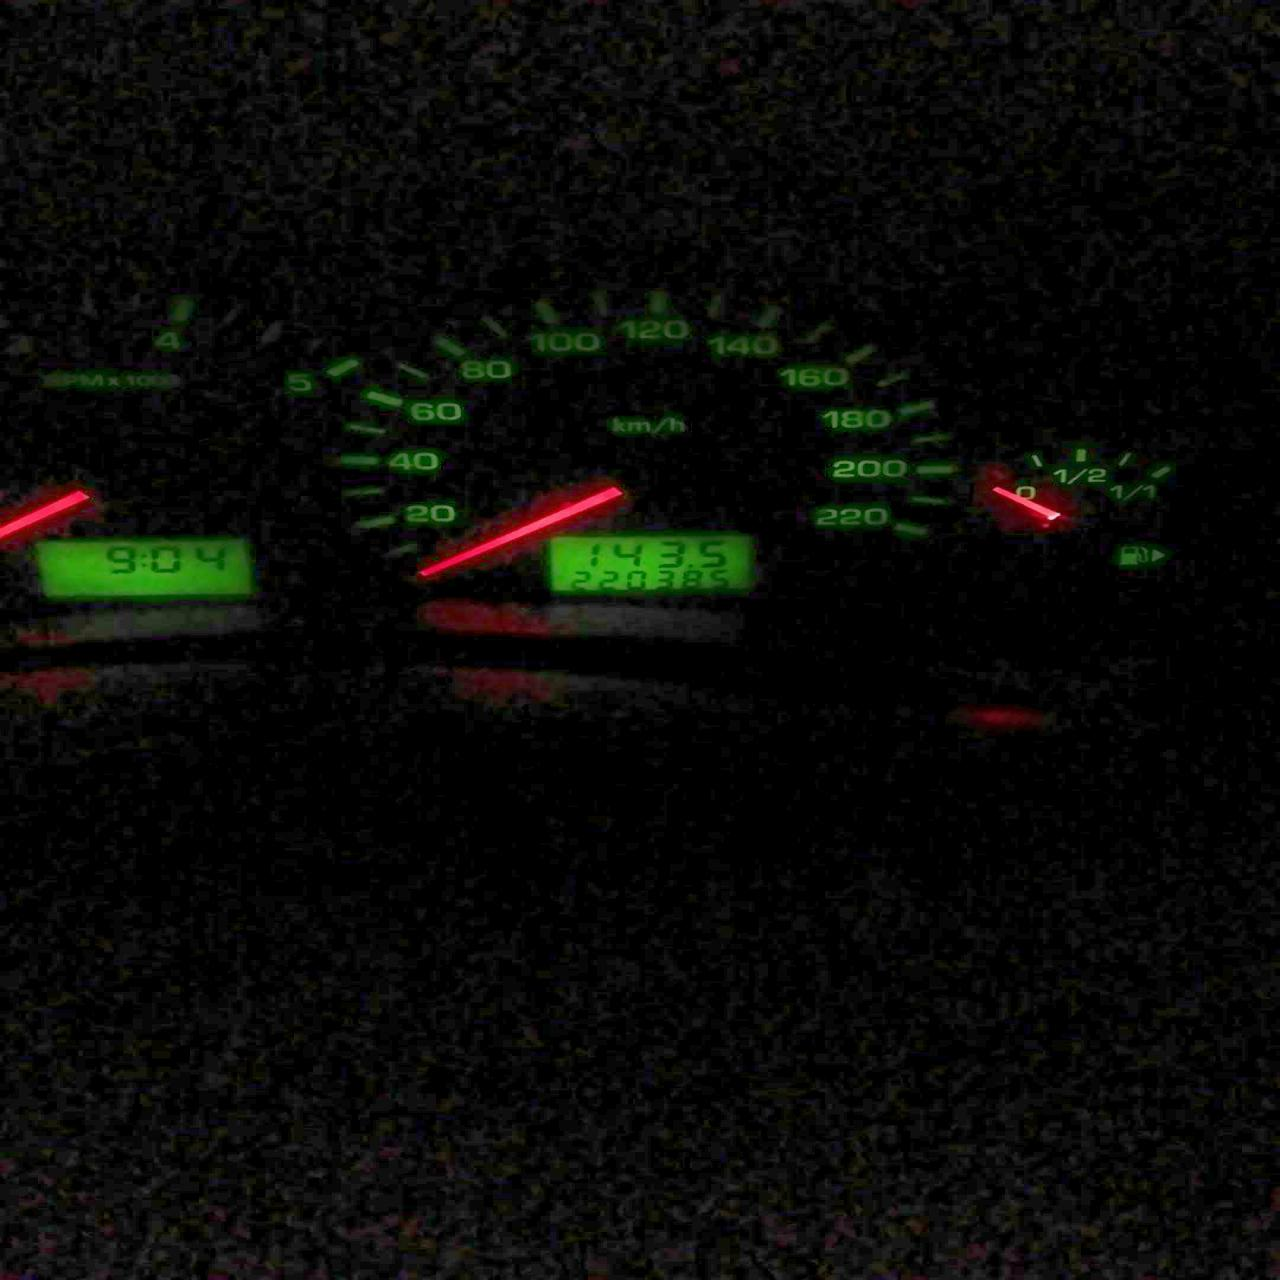-: (685, 563, 692, 567)
0: (625, 570, 645, 588)
1: (588, 542, 601, 567)
2: (568, 570, 591, 590), (598, 570, 619, 590)
3: (655, 539, 683, 567), (656, 570, 674, 588)
4: (612, 542, 642, 566)
5: (697, 539, 726, 567), (708, 568, 728, 587)
8: (680, 570, 702, 587)
odometer: (545, 533, 754, 592)
